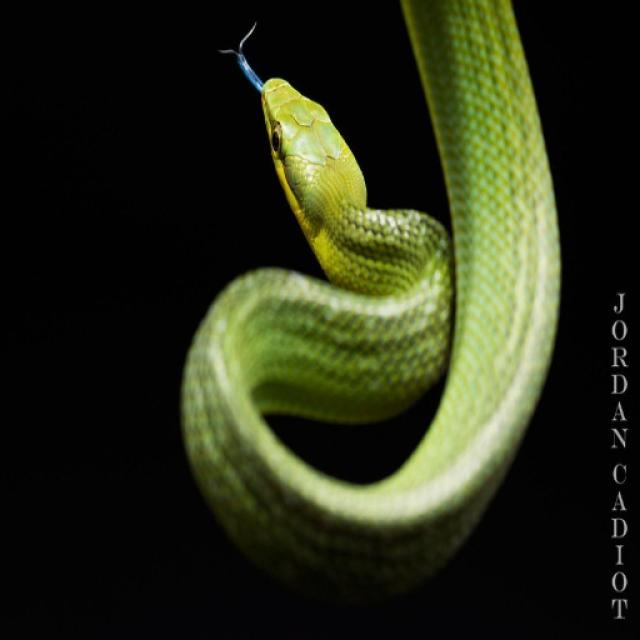snake: (190, 15, 580, 609)
